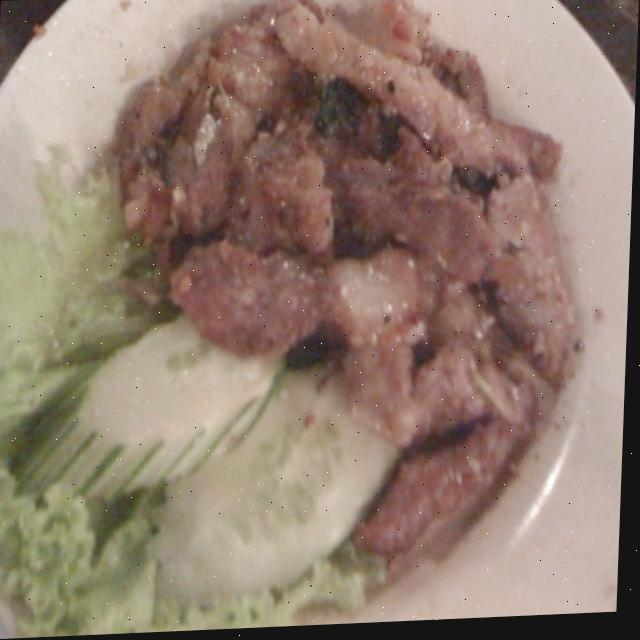猪肉菜式: (58, 0, 589, 636)
